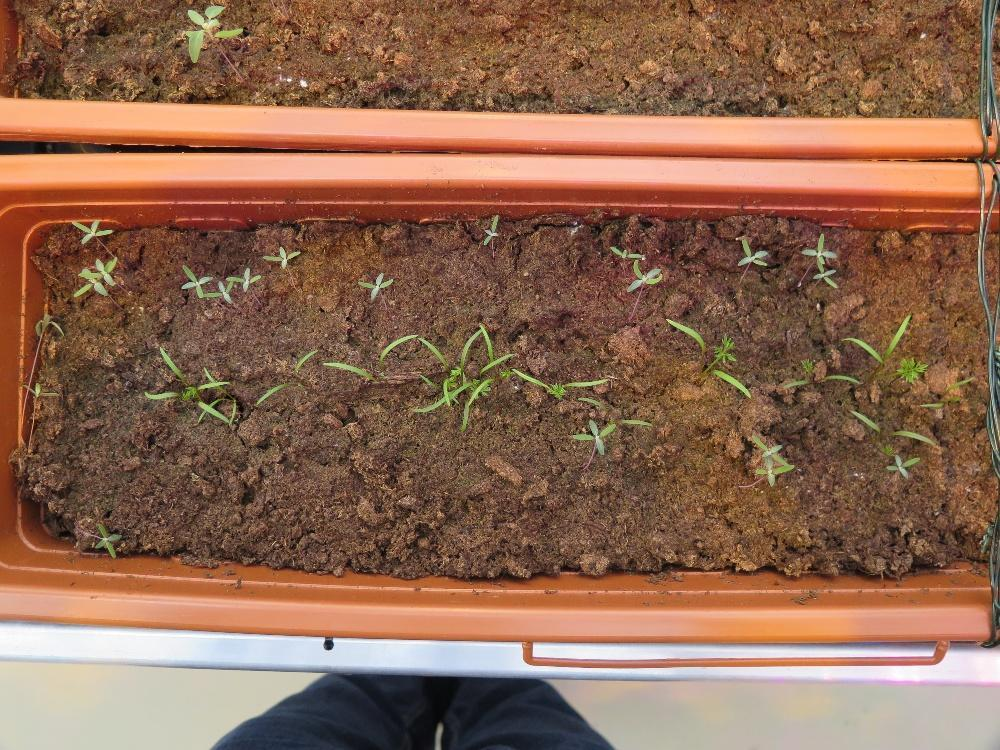weed: (570, 418, 615, 457), (624, 257, 662, 292), (354, 269, 393, 302), (92, 521, 122, 559), (69, 218, 111, 244), (735, 235, 768, 266), (260, 244, 300, 269), (885, 452, 919, 478), (481, 211, 498, 246), (608, 244, 643, 257)
